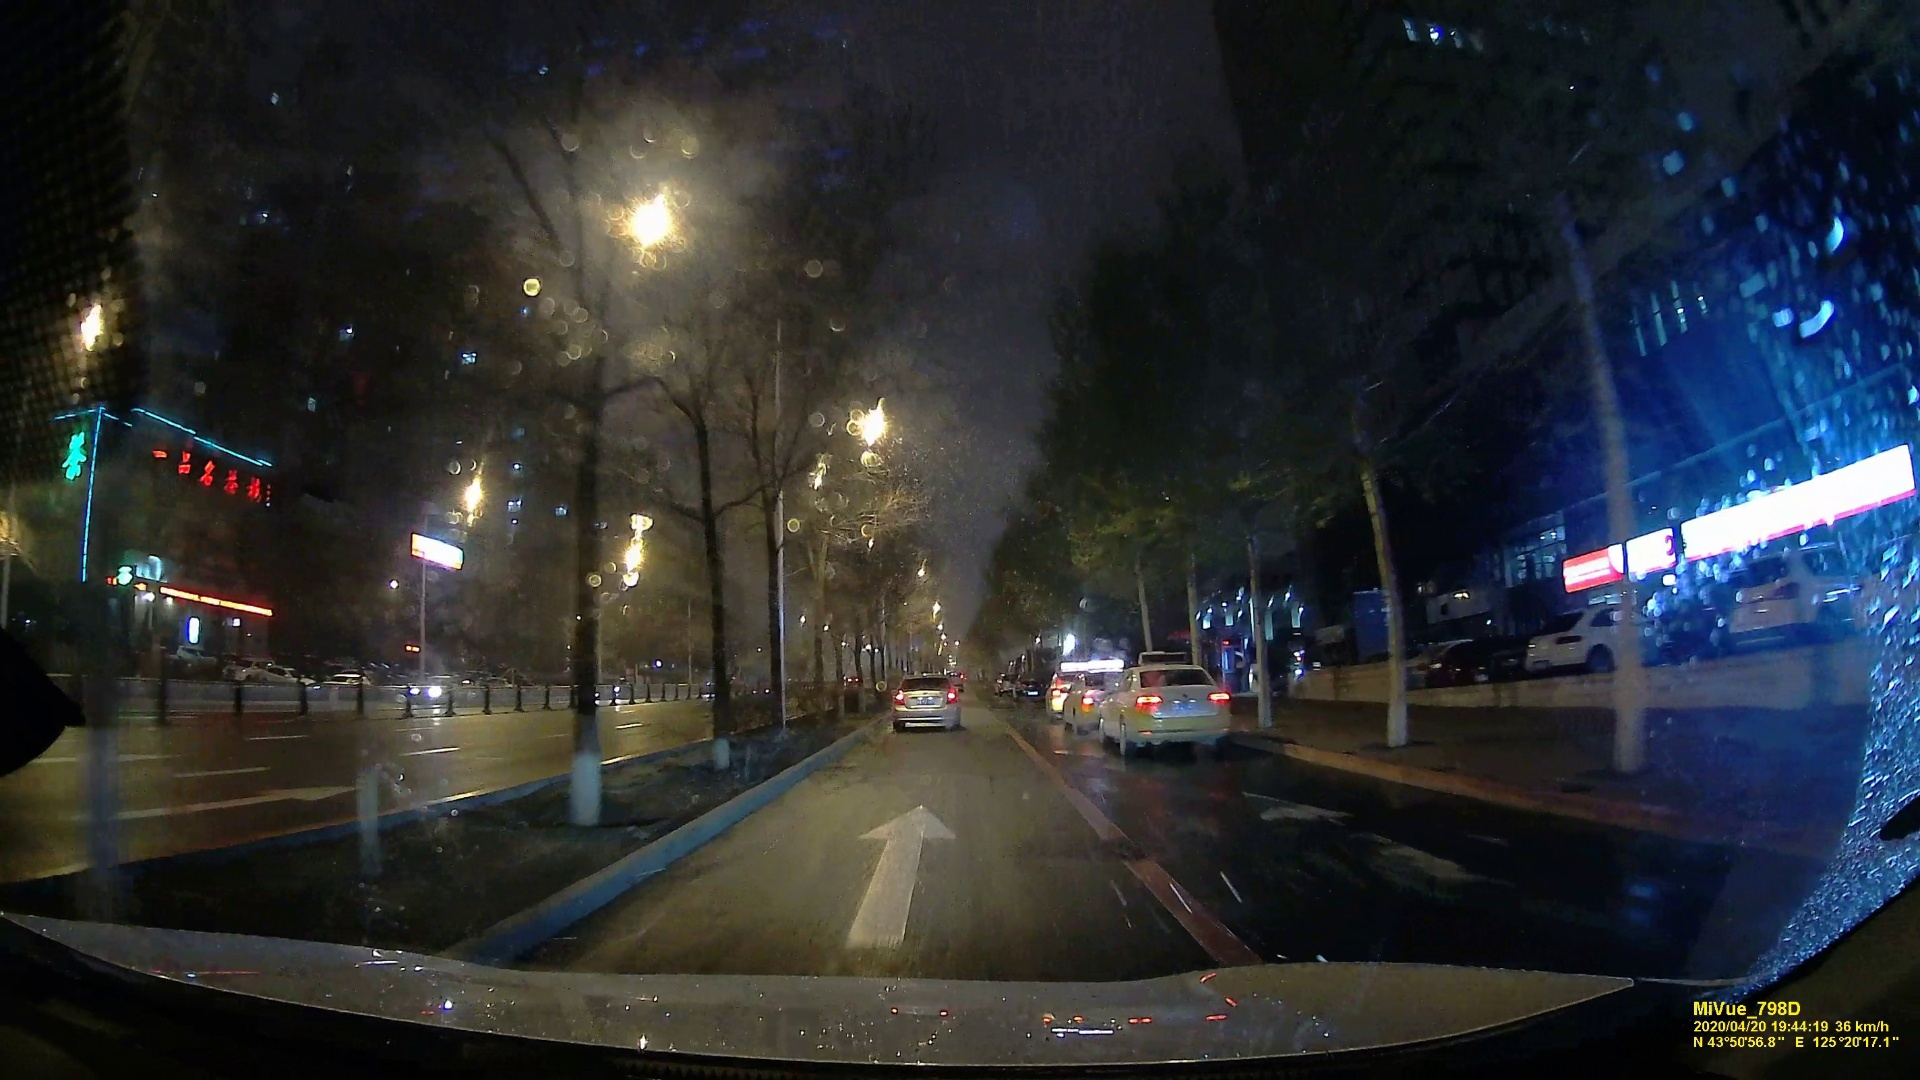vehicle: (1101, 665, 1230, 756), (890, 673, 963, 732), (1058, 667, 1122, 729), (400, 673, 463, 704)
